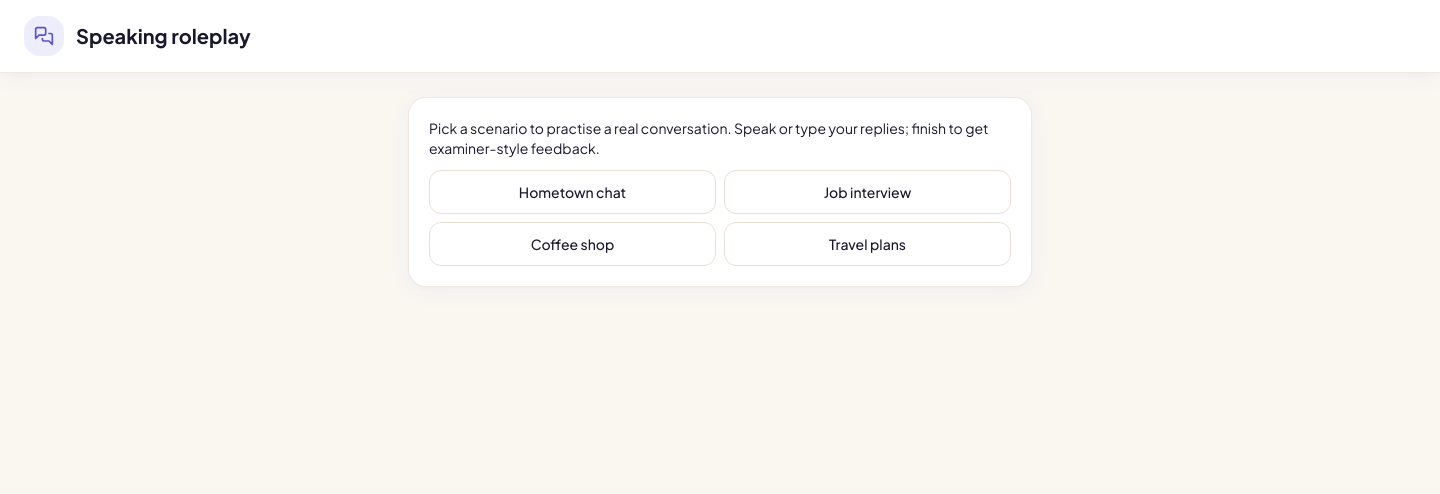
Test case: Roleplay › starts a scenario and shows the opener; AI replies to a turn
Step 1. Click the button "Hometown chat" → click(572, 192), box [429,170,716,214]
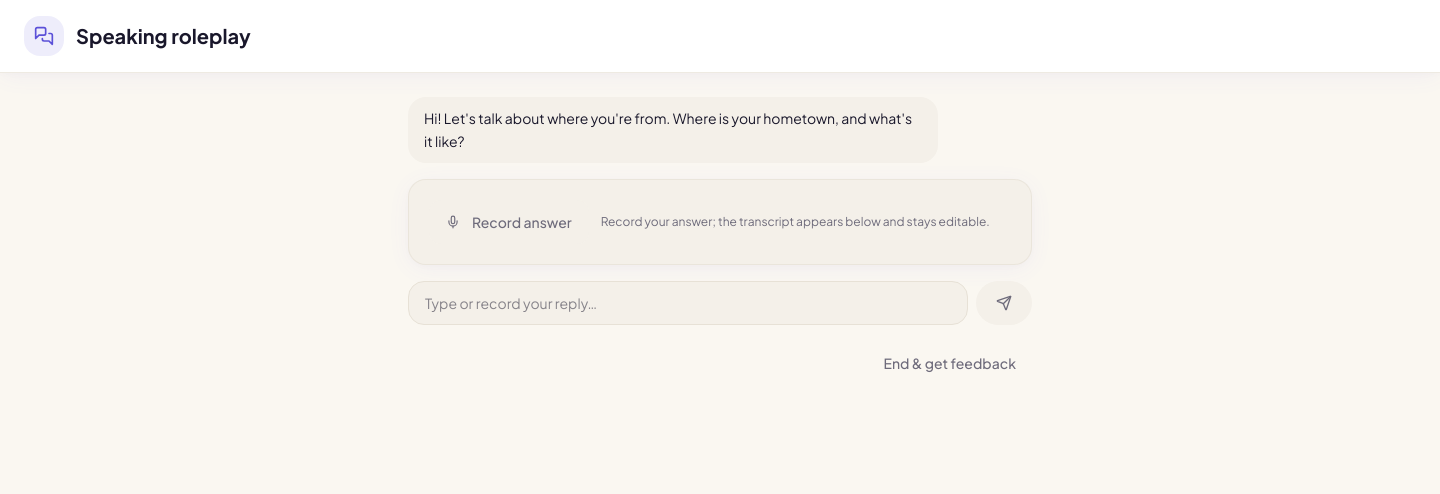
Now the text "Where is your hometown" is shown, box [424,109,912,150]
Step 2. Type "It's a small coastal town." into the field labelled "your reply" → (688, 302), box [408,280,968,324]
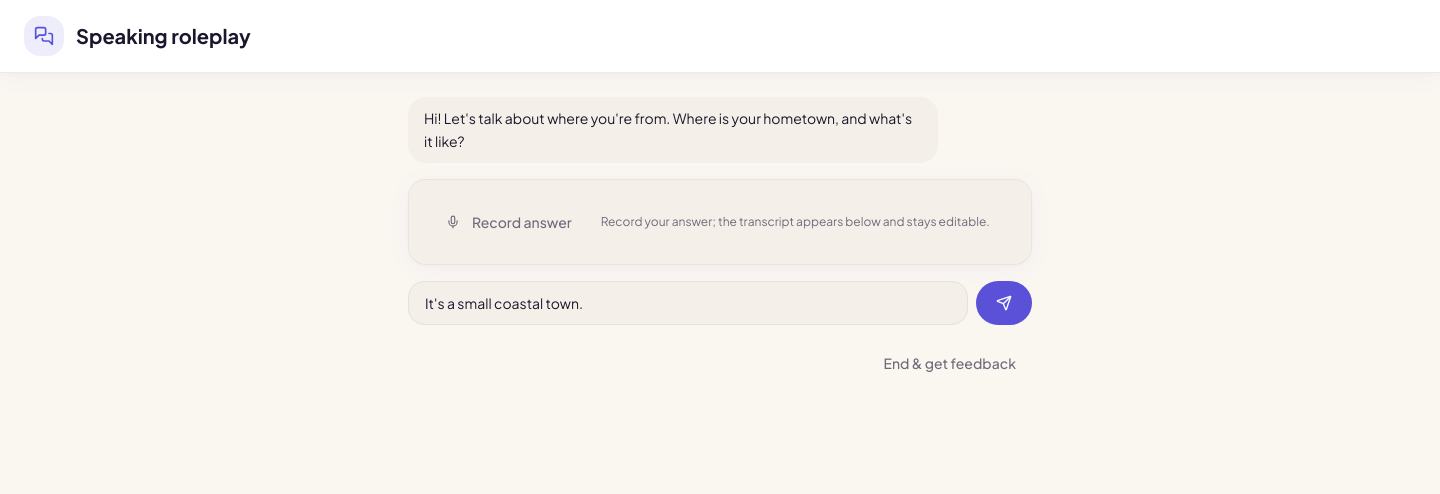
Step 3. Click the button named "Send" → click(1004, 302), box [976,280,1032,324]
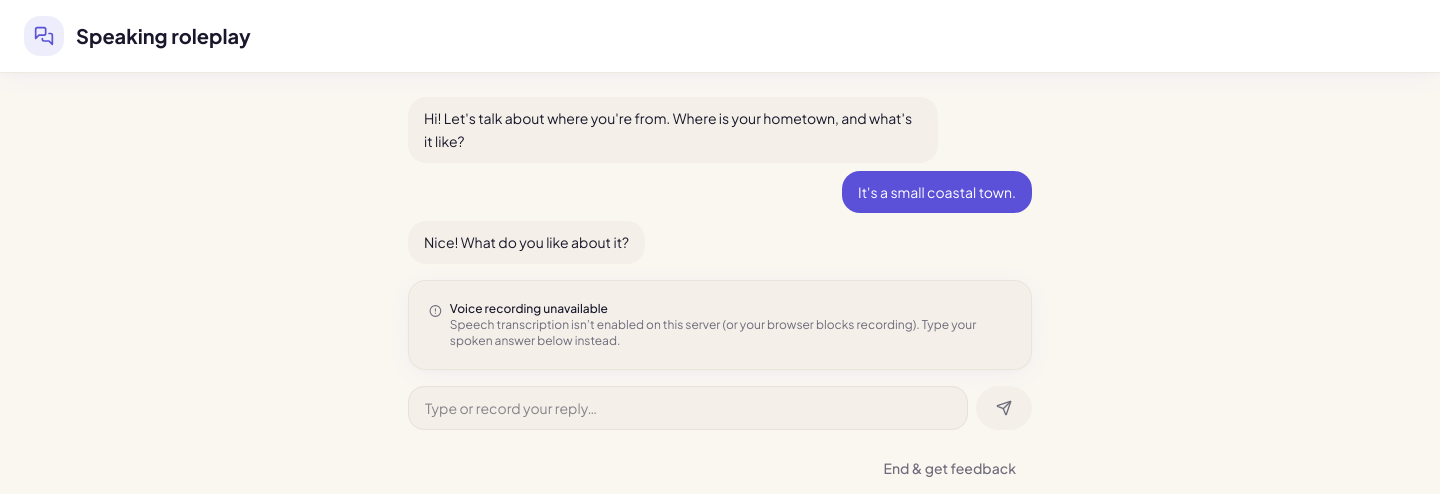
Now the text "Nice! What do you like about it?" is shown, box [408,221,645,264]
